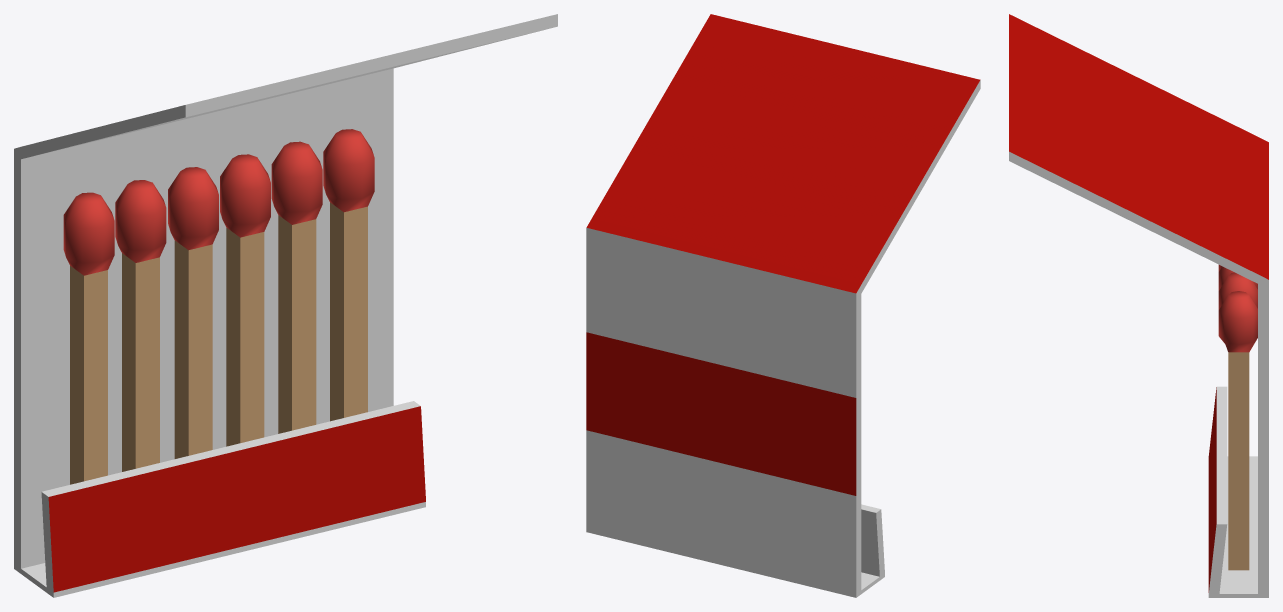
Rendered from Match Holder.fbx.
3 renders of one model, left to right at view 1: azimuth 30°, elevation 25°; view 2: azimuth 150°, elevation 25°; view 3: azimuth 270°, elevation 25°, orthographic. The views are drawn at different scales.
Visible parts, largest first — view 1: Match Holder, Match.004, Match.003, Match.002, Match, Match.005, Match.001; view 2: Match Holder; view 3: Match Holder, Match.005, Match.004.
Boxes of the visible parts, left/top/right/bottom form: Match Holder: left=14, top=14, right=557, bottom=597; Match.004: left=271, top=141, right=322, bottom=433; Match.003: left=168, top=167, right=218, bottom=458; Match.002: left=220, top=154, right=270, bottom=446; Match: left=63, top=192, right=114, bottom=484; Match.005: left=323, top=129, right=374, bottom=421; Match.001: left=115, top=180, right=166, bottom=471; Match Holder: left=586, top=14, right=980, bottom=597; Match Holder: left=1009, top=14, right=1268, bottom=597; Match.005: left=1218, top=291, right=1257, bottom=570; Match.004: left=1218, top=272, right=1257, bottom=309.
Bounding box in the file's own units: 119 × 180 × 95.03.
